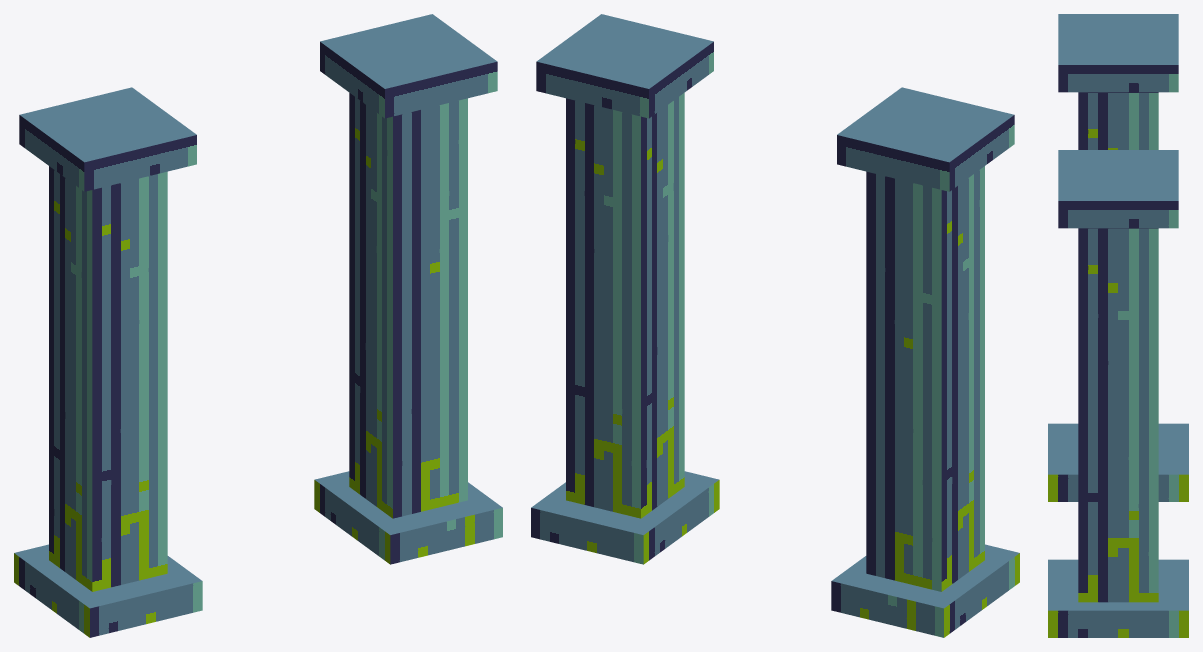
The model's file is mausoleum_pillars_cryptao.fezao.glb.
3 renders of one model, left to right at view 1: azimuth 30°, elevation 25°; view 2: azimuth 150°, elevation 25°; view 3: azimuth 270°, elevation 25°, orthographic. The views are drawn at different scales.
Parts seen in each view (by area): view 1: MAUSOLEUM_PILLARS_CRYPTAO; view 2: MAUSOLEUM_PILLARS_CRYPTAO; view 3: MAUSOLEUM_PILLARS_CRYPTAO.
Boxes of the visible parts, x1,y1,x2,y2 form: MAUSOLEUM_PILLARS_CRYPTAO: (14,14,502,637); MAUSOLEUM_PILLARS_CRYPTAO: (531,14,1019,637); MAUSOLEUM_PILLARS_CRYPTAO: (1048,14,1188,637).
Bounding box in the file's own units: 2.75 × 3 × 0.875.
Materials: 1 (1 with a texture image).
